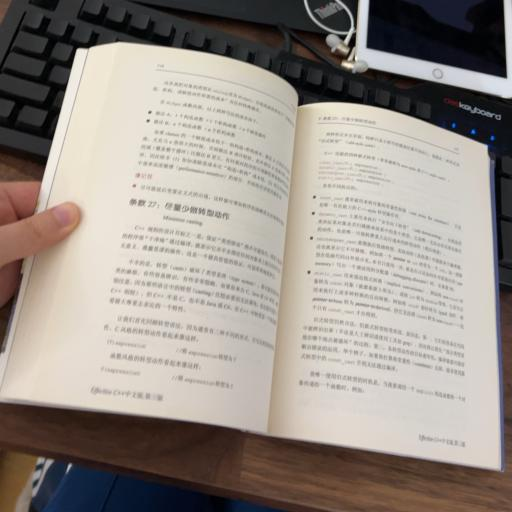paper: (27, 29, 496, 512)
